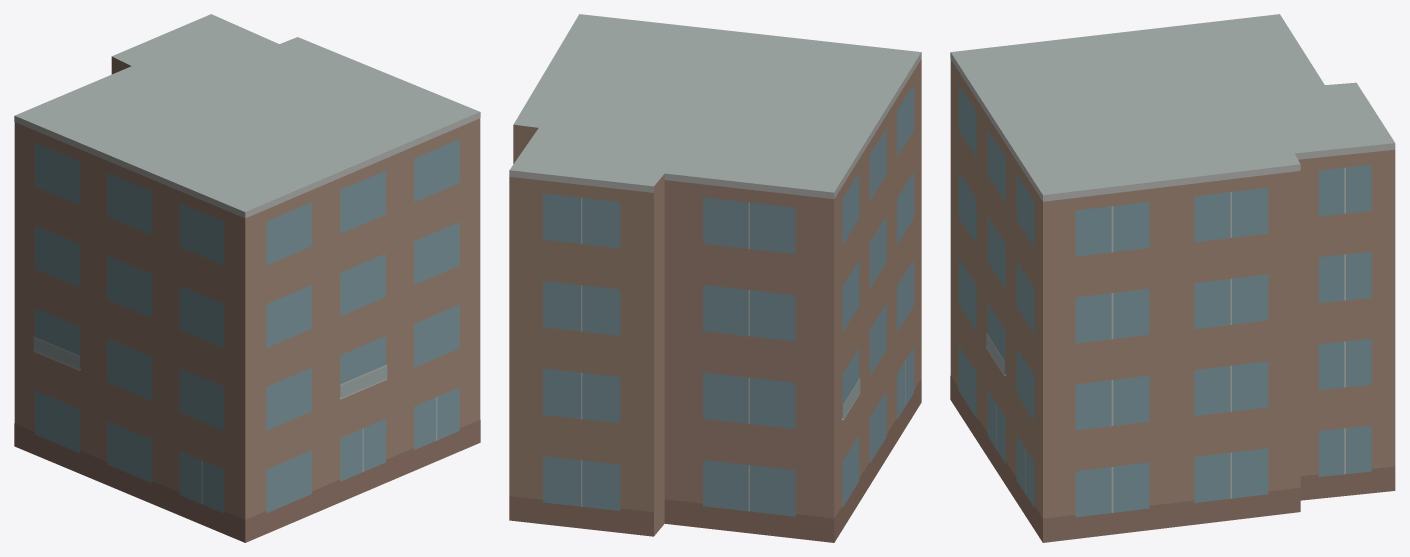
Rendered from survey-upis-33012633.glb.
3 renders of one model, left to right at view 1: azimuth 30°, elevation 25°; view 2: azimuth 150°, elevation 25°; view 3: azimuth 270°, elevation 25°, orthographic. The views are drawn at different scales.
Visible parts, largest first — view 1: survey-upis-33012633.tmp; view 2: survey-upis-33012633.tmp; view 3: survey-upis-33012633.tmp.
Boxes of the visible parts, box(x1,y1,x2,y2) form: survey-upis-33012633.tmp: box(14, 14, 480, 542); survey-upis-33012633.tmp: box(509, 14, 921, 542); survey-upis-33012633.tmp: box(950, 14, 1395, 542).
Size of the model in its own units: 14.57 by 13.02 by 15.11.
